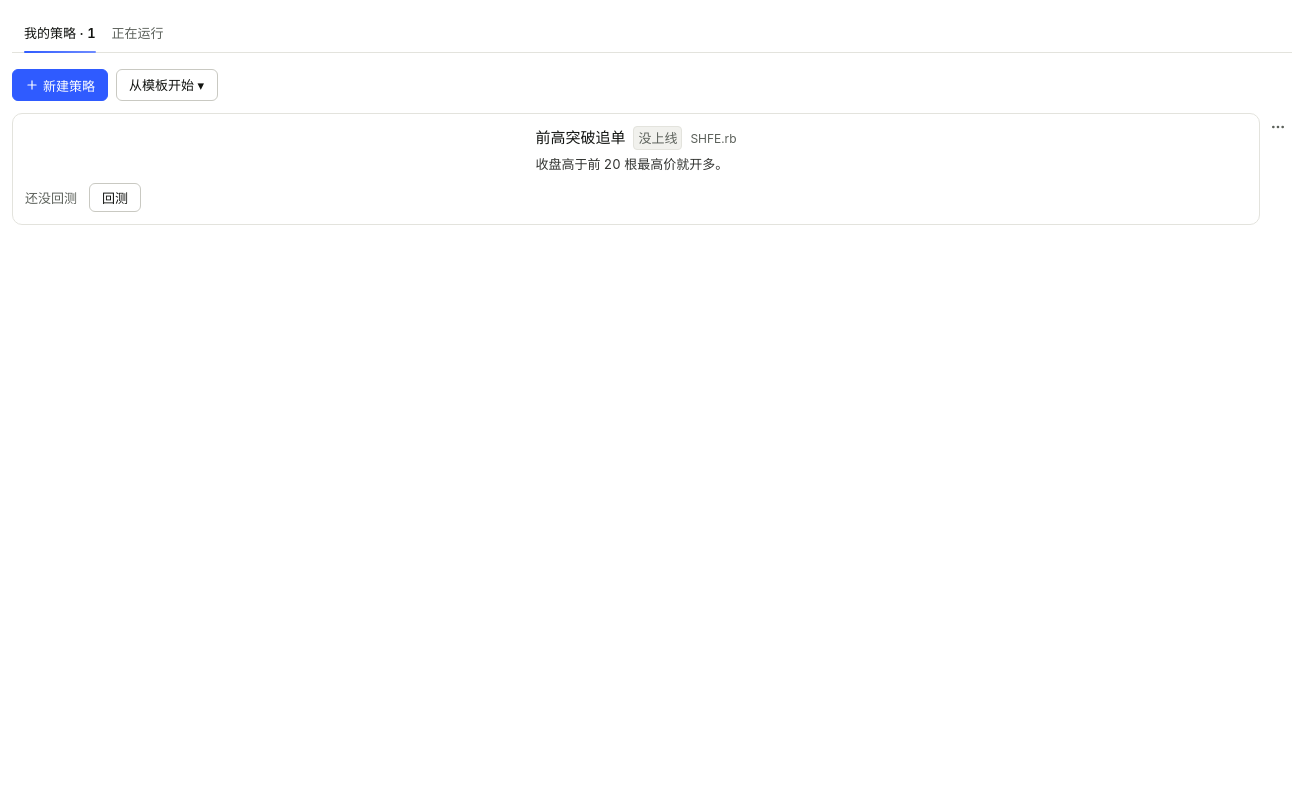
Scenario: 结果页 → 编辑 → 改止损 → 存为草稿：同一条策略的新版本（只改止损），选中、自动回测、打开结果页；比一比的表标出当前那组
Click the button with aria-label "前高突破追单 · 没上线" at (636, 150), box [25,126,1247,175]
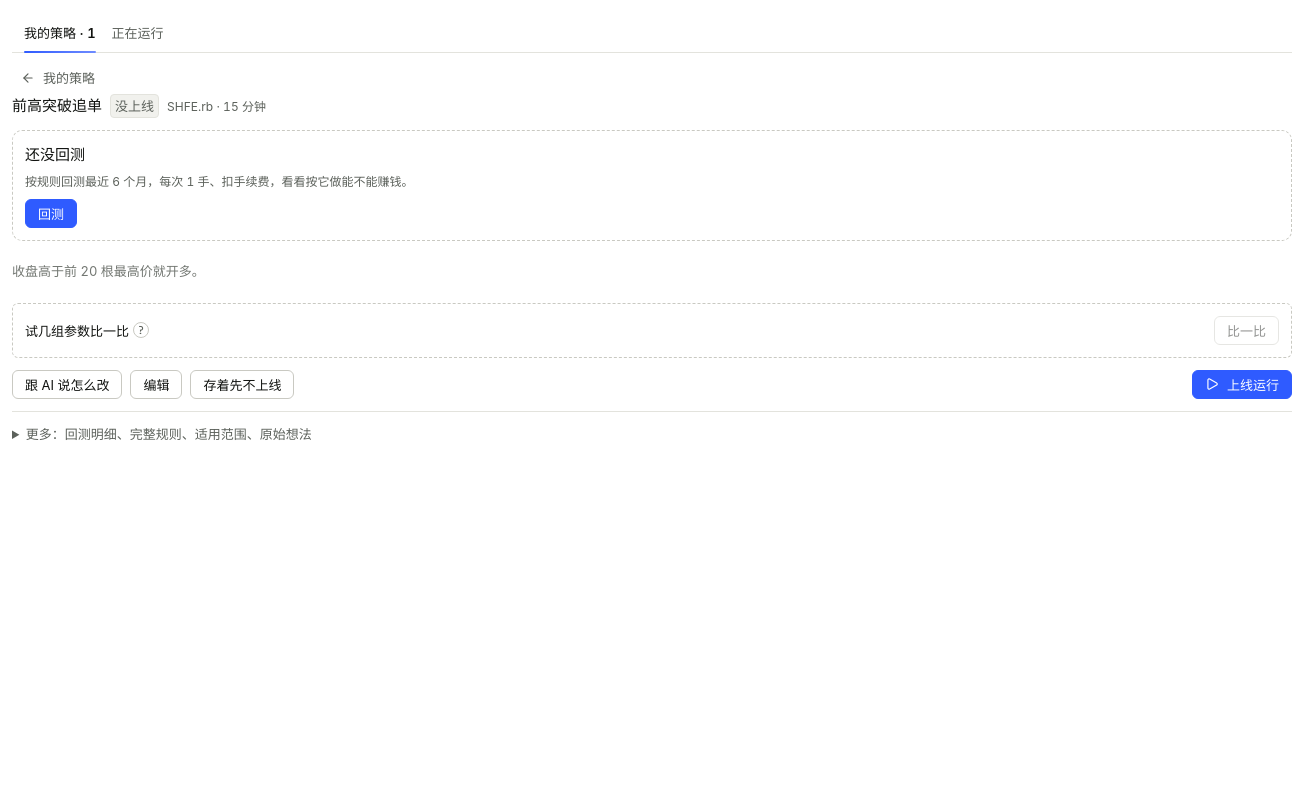
Click the button "编辑" at (156, 384), box [130,370,182,399]
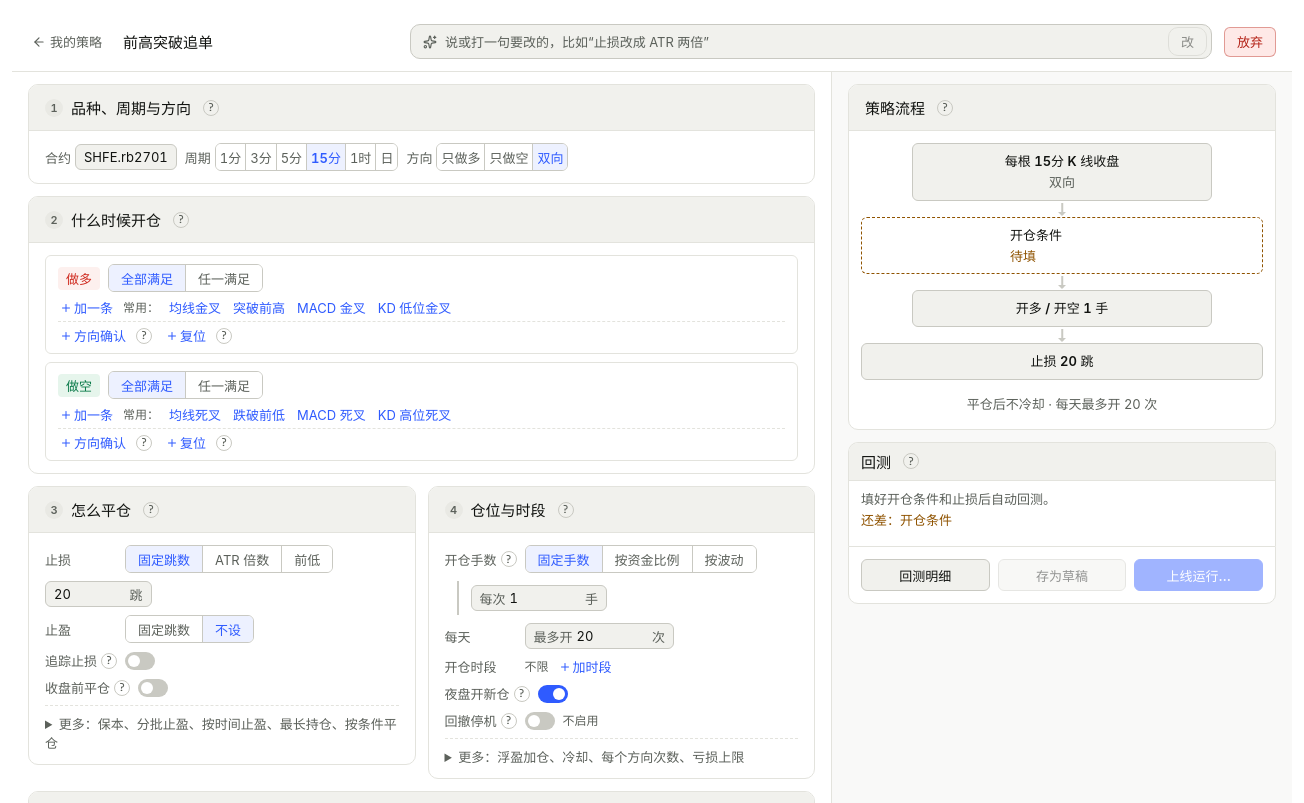
Replace the text in the number field named "止损" with "25" at (90, 594), box [54,584,126,604]
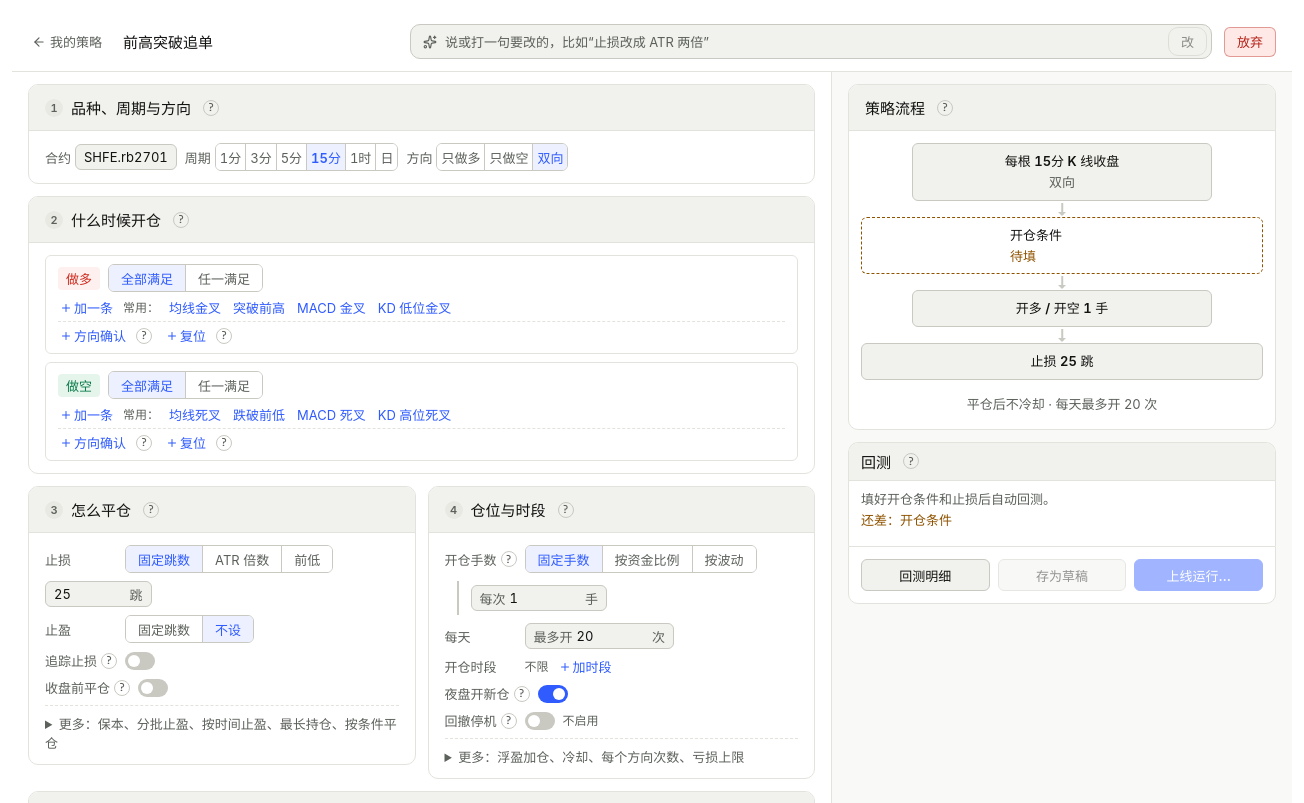
// The plan has no entry condition (a test fixture), so add one before it can be saved.
Click the button with aria-label "加一条：突破前高" at (259, 308), box [231,298,287,317]
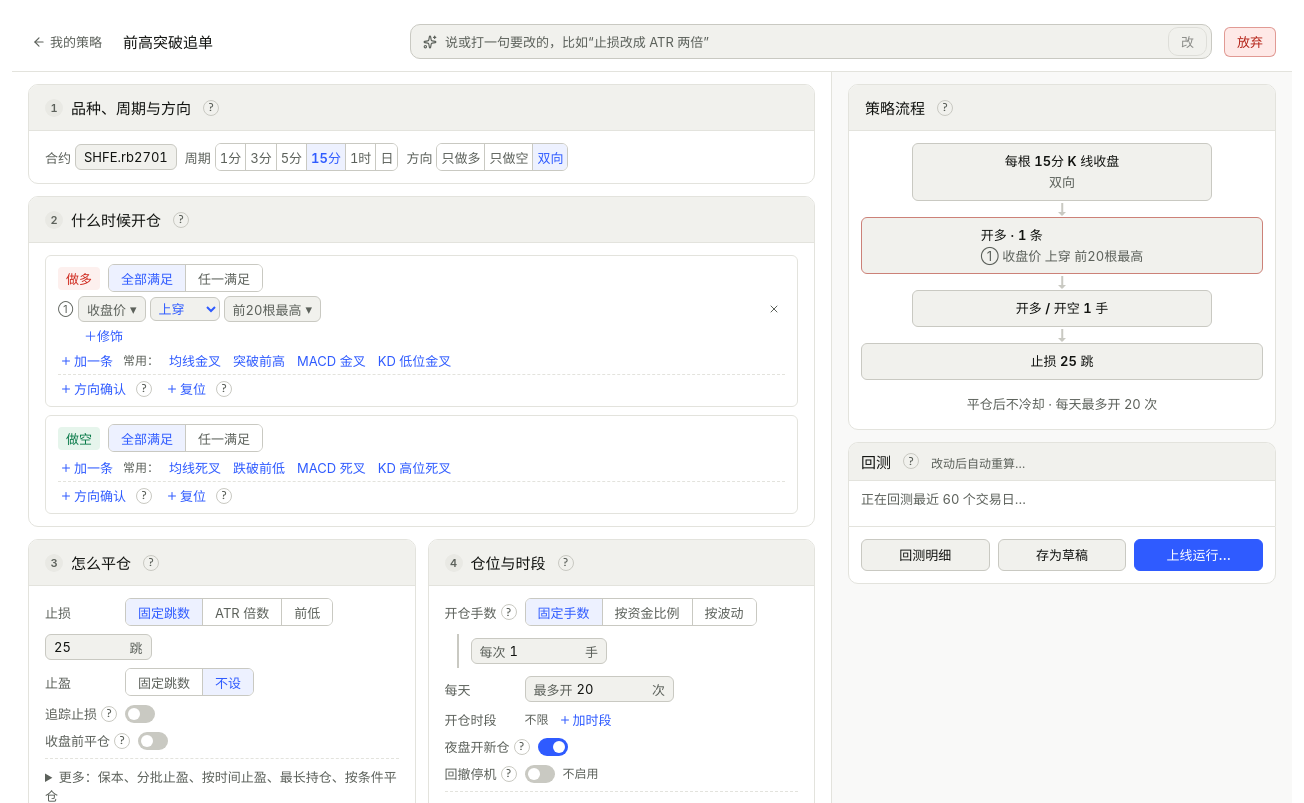
Click the button "存为草稿" at (1062, 555), box [998,539,1126,571]
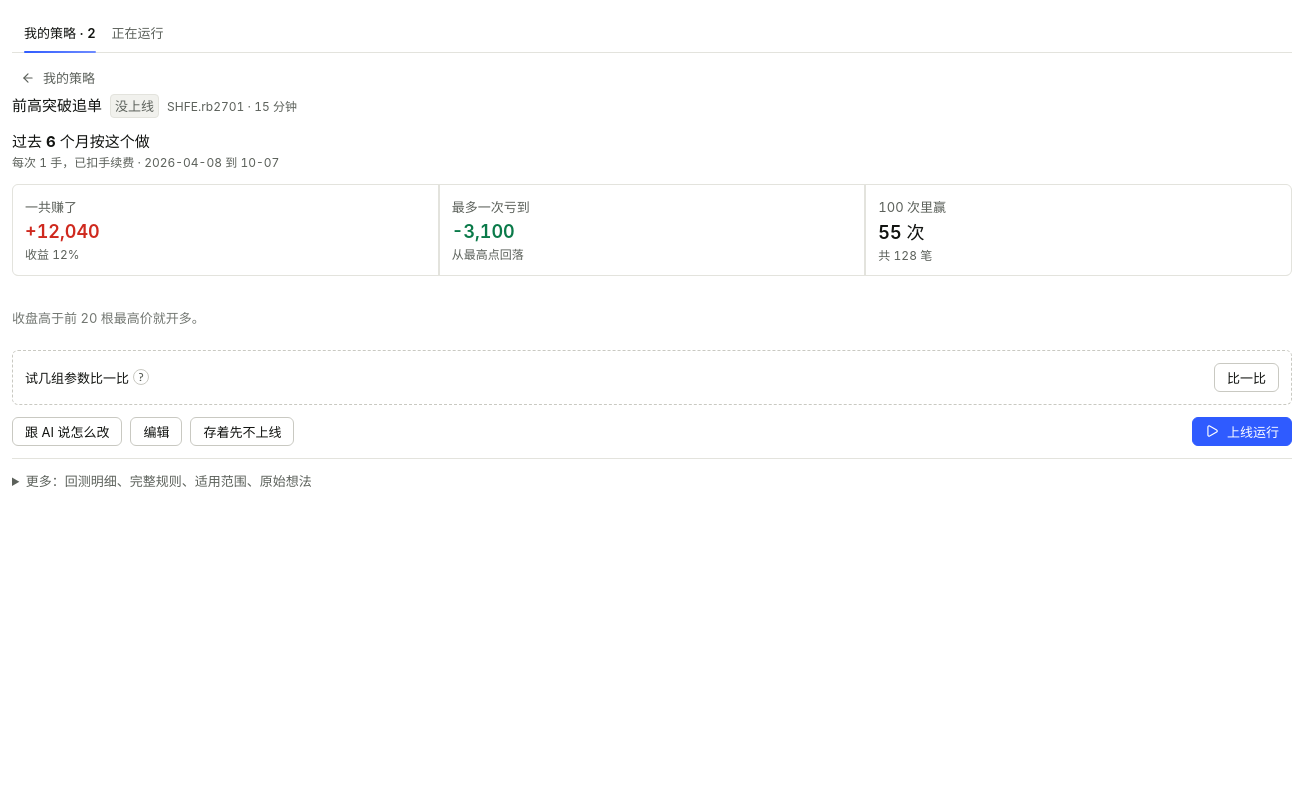
Expected: the heading "过去 6 个月按这个做" is shown, [12,132,150,151]
// 试几组参数比一比: three groups, the current one marked, the held-out line below.
Click the button "比一比" at (1246, 377), box [1214,363,1279,392]
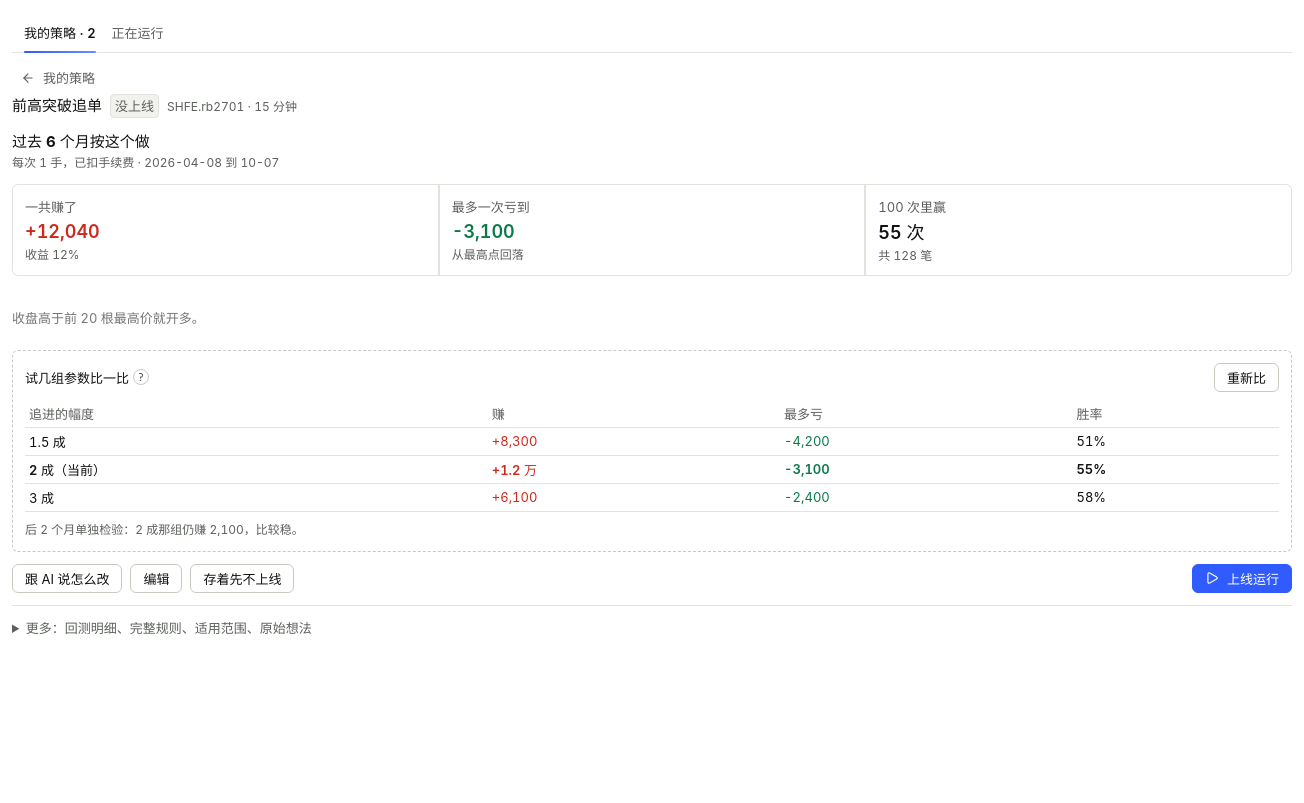
Expected: the rows read "追进的幅度赚最多亏胜率", "1.5 成+8,300-4,20051%", "2 成（当前）+1.2 万-3,10055%", "3 成+6,100-2,40058%", in this order, [25,400,1279,427]; [25,427,1279,455]; [25,455,1279,483]; [25,483,1279,511]
Expected: the text with test id "strategy-compare-line" reads "后 2 个月单独检验：2 成那组仍赚 2,100，比较稳。", [25,522,304,537]
